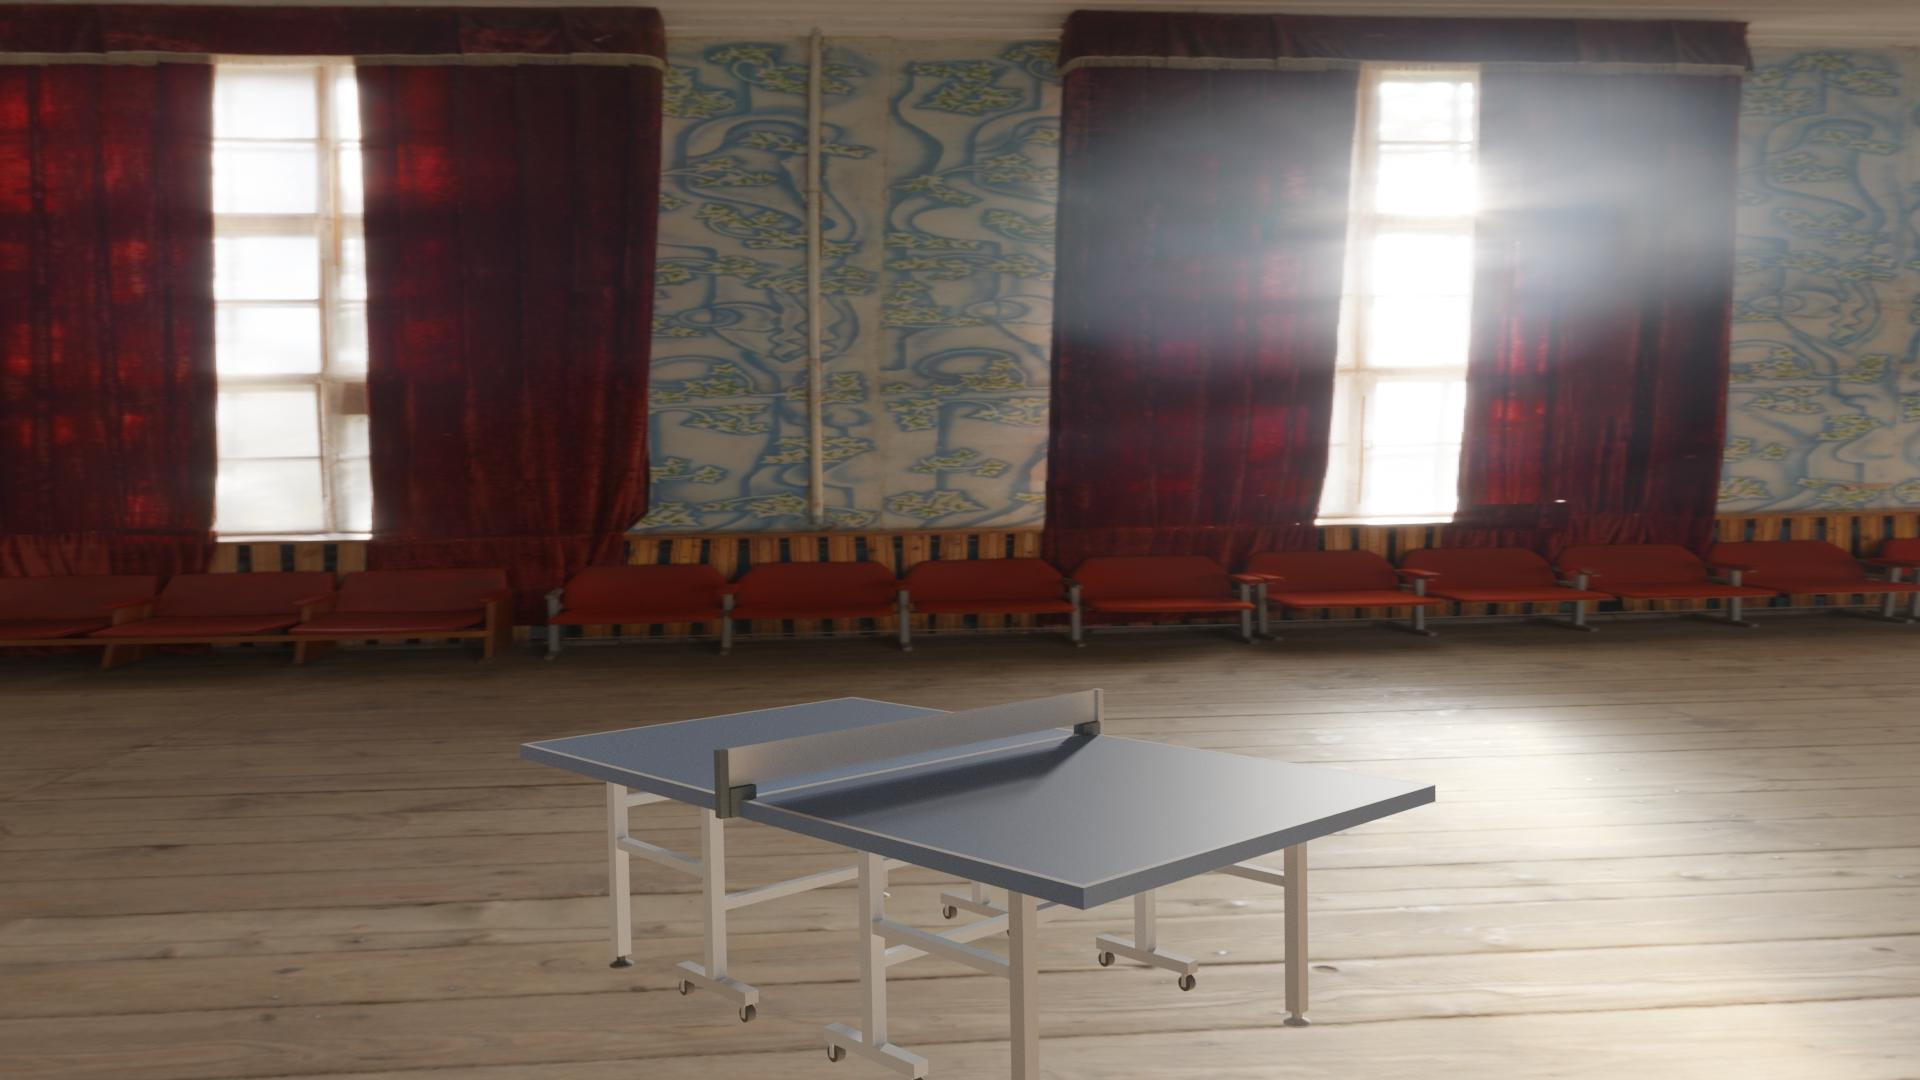table: (527, 698, 1425, 885)
